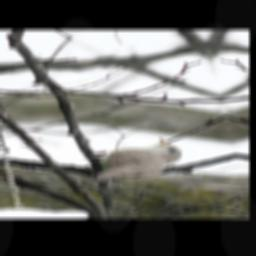Cuckoo: (81, 136, 189, 183)
